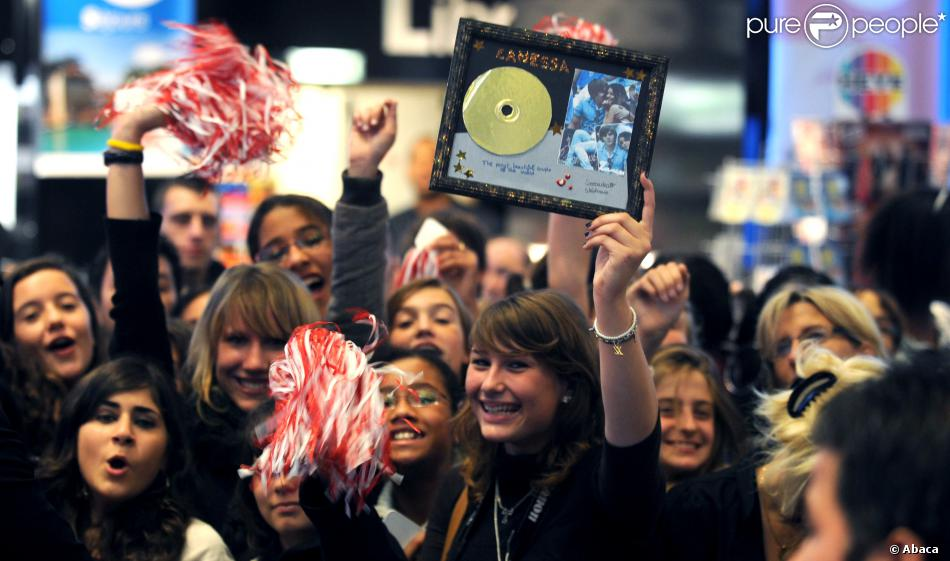without_mask: (77, 392, 164, 502), (467, 342, 553, 443), (213, 309, 293, 414), (256, 215, 334, 306), (14, 283, 91, 375), (379, 368, 445, 461), (391, 292, 466, 370), (656, 376, 717, 463), (166, 194, 218, 265)
